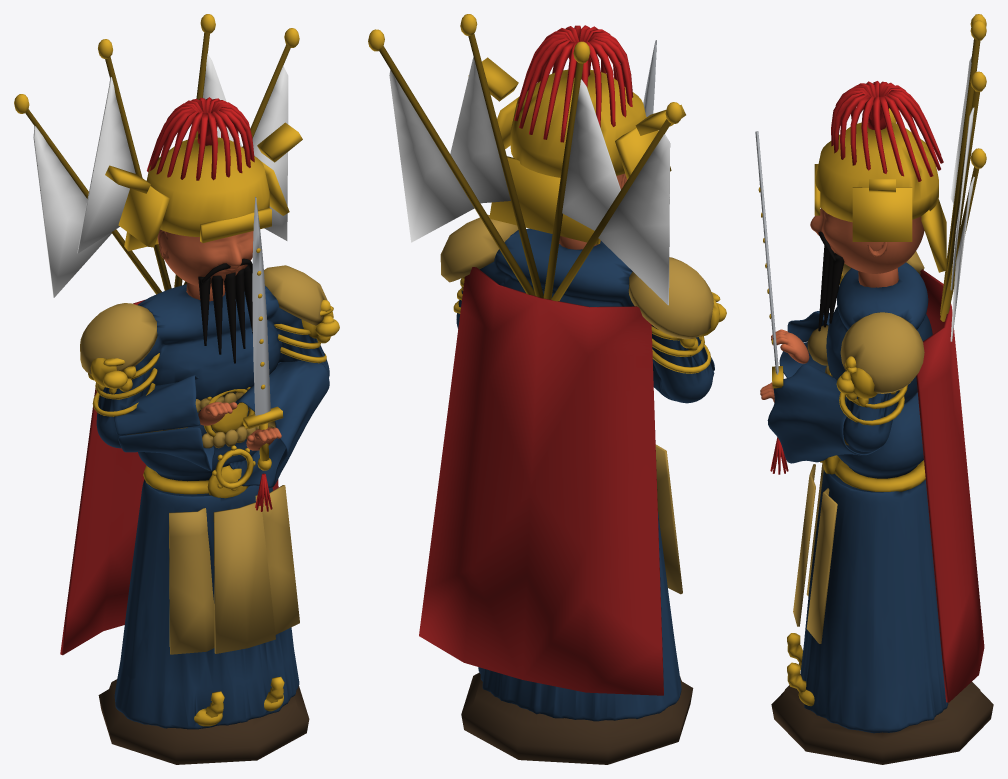
Rendered from jianjun.glb.
3 renders of one model, left to right at view 1: azimuth 30°, elevation 25°; view 2: azimuth 150°, elevation 25°; view 3: azimuth 270°, elevation 25°, orthographic. The views are drawn at different scales.
Visible parts, largest first — view 1: JJ_RobeMesh, JJ_ArmorMesh, JJ_Helmet, JJ_Flags, JJ_Cape, JJ_Gilt, JJ_Plinth, JJ_SleeveL, JJ_Plume, JJ_SleeveR, JJ_FlagPoles, JJ_HeadMesh (+5 smaller); view 2: JJ_Cape, JJ_Flags, JJ_RobeMesh, JJ_Helmet, JJ_Plinth, JJ_ArmorMesh, JJ_FlagPoles, JJ_Plume, JJ_Gilt; view 3: JJ_RobeMesh, JJ_Cape, JJ_Helmet, JJ_ArmorMesh, JJ_Plinth, JJ_SleeveR, JJ_Plume, JJ_Gilt, JJ_FlagPoles, JJ_HeadMesh, JJ_Flags, JJ_Beard (+4 smaller).
Part boxes in pixels (box(x1,y1,x2,y2)): JJ_RobeMesh: box(96, 284, 329, 729); JJ_ArmorMesh: box(80, 265, 327, 654); JJ_Helmet: box(105, 122, 302, 251); JJ_Flags: box(33, 53, 288, 297); JJ_Cape: box(60, 300, 278, 655); JJ_Gilt: box(88, 299, 339, 726); JJ_Plinth: box(98, 679, 309, 764); JJ_SleeveL: box(114, 375, 214, 471); JJ_Plume: box(147, 97, 254, 180); JJ_SleeveR: box(229, 360, 329, 487); JJ_FlagPoles: box(14, 14, 299, 294); JJ_HeadMesh: box(157, 229, 253, 287); JJ_Cape: box(419, 267, 663, 695); JJ_Flags: box(389, 57, 670, 305); JJ_RobeMesh: box(456, 228, 712, 721); JJ_Helmet: box(468, 57, 685, 244); JJ_Plinth: box(461, 672, 693, 764); JJ_ArmorMesh: box(440, 215, 713, 594); JJ_FlagPoles: box(368, 14, 682, 301); JJ_Plume: box(514, 25, 633, 142); JJ_Gilt: box(453, 277, 726, 373); JJ_RobeMesh: box(800, 262, 948, 733); JJ_Cape: box(916, 269, 984, 702); JJ_Helmet: box(814, 108, 946, 272); JJ_ArmorMesh: box(793, 251, 924, 643); JJ_Plinth: box(771, 674, 993, 764); JJ_SleeveR: box(767, 364, 880, 463); JJ_Plume: box(831, 81, 943, 181); JJ_Gilt: box(787, 273, 925, 706); JJ_FlagPoles: box(940, 14, 986, 321); JJ_HeadMesh: box(810, 208, 924, 273); JJ_Flags: box(950, 57, 974, 341); JJ_Beard: box(818, 231, 844, 331).
Size of the model in its own units: 1.23 by 2.74 by 0.8795.
